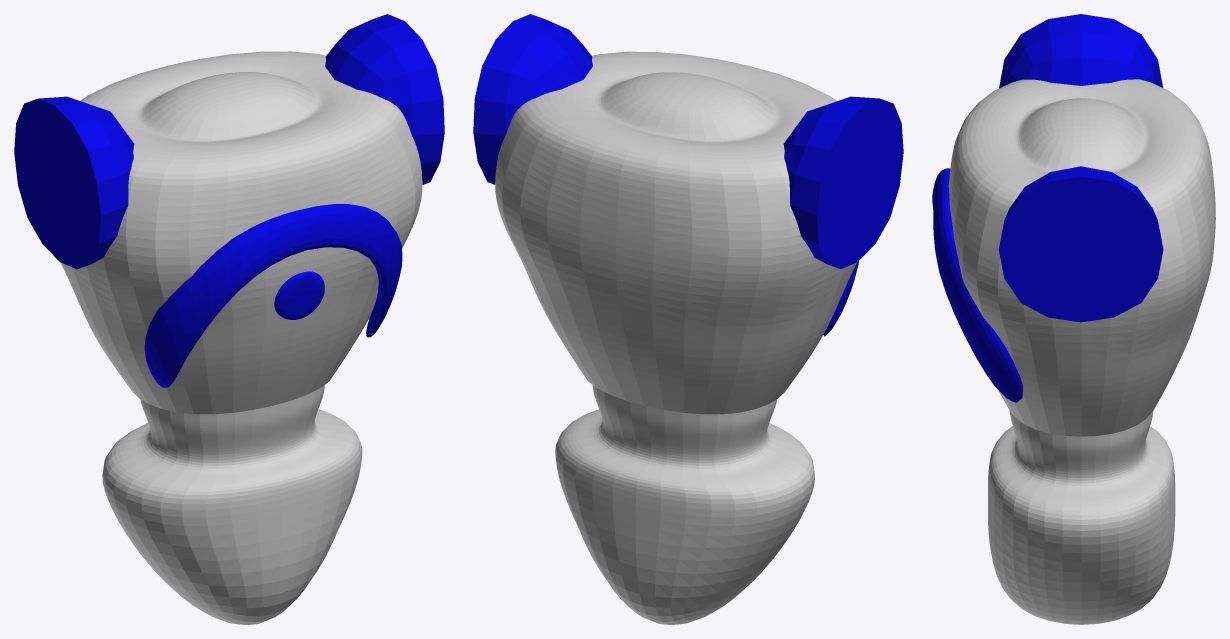
Rendered from cuerpo.dae.
3 views of the same model, side by side, from view 1: azimuth 30°, elevation 25°; view 2: azimuth 150°, elevation 25°; view 3: azimuth 270°, elevation 25° (orthographic). The views are drawn at different scales.
Visible parts, largest first — view 1: Cube_001_Cub, Cube_matNum_, Cube_003_000, Cube_003_mat, Circle_matTe, Cube_naoblac; view 2: Cube_001_Cub, Cube_naowhit, Cube_matNum_, Cube_003_000, Circle_matTe; view 3: Cube_001_Cub, Circle_matTe, Cube_matNum_, Cube_003_000, Cube_003_mat, Cube_naowhit.
Part boxes in pixels (x1,y1,x2,y2): Cube_001_Cub: [60, 51, 422, 624]; Cube_matNum_: [140, 72, 324, 468]; Cube_003_000: [14, 96, 134, 269]; Cube_003_mat: [144, 204, 402, 387]; Circle_matTe: [325, 14, 444, 184]; Cube_naoblac: [274, 271, 324, 319]; Cube_001_Cub: [495, 51, 856, 624]; Cube_naowhit: [502, 147, 761, 380]; Cube_matNum_: [592, 72, 777, 468]; Cube_003_000: [783, 96, 903, 269]; Circle_matTe: [473, 14, 592, 184]; Cube_001_Cub: [948, 79, 1211, 624]; Circle_matTe: [998, 166, 1163, 322]; Cube_matNum_: [1009, 98, 1153, 485]; Cube_003_000: [999, 14, 1162, 88]; Cube_003_mat: [932, 168, 1022, 402]; Cube_naowhit: [1154, 153, 1215, 390].
Size of the model in its own units: 1.53 by 1.13 by 2.31.
